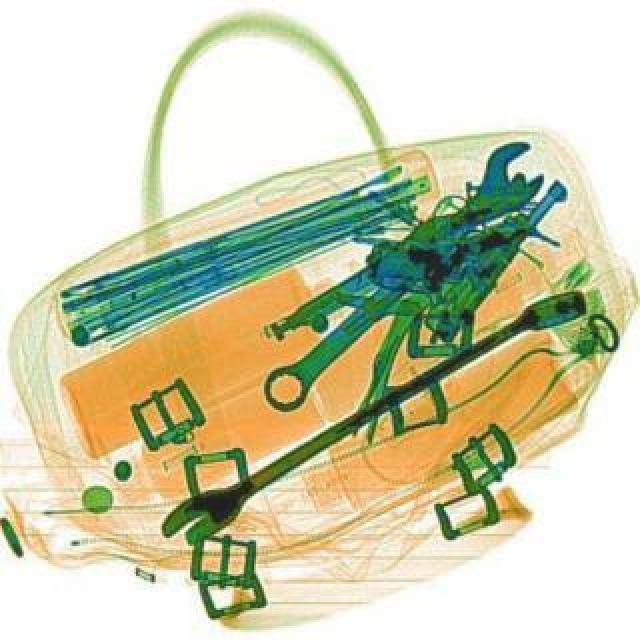gun: (344, 110, 572, 346)
scissors: (148, 270, 596, 554), (244, 126, 560, 422)
